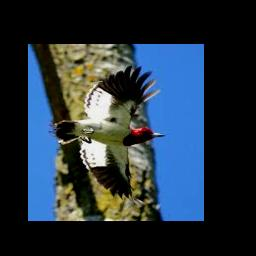Woodpecker: (49, 66, 165, 204)
